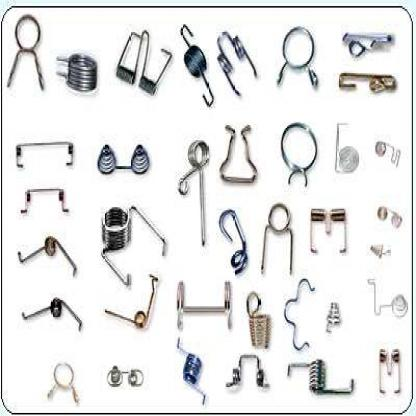FOD: (98, 200, 167, 289), (175, 136, 212, 248), (114, 29, 172, 96), (178, 19, 215, 111), (285, 355, 355, 402), (174, 335, 209, 407), (19, 295, 84, 333), (54, 50, 100, 96), (245, 289, 273, 351), (325, 297, 340, 334)
